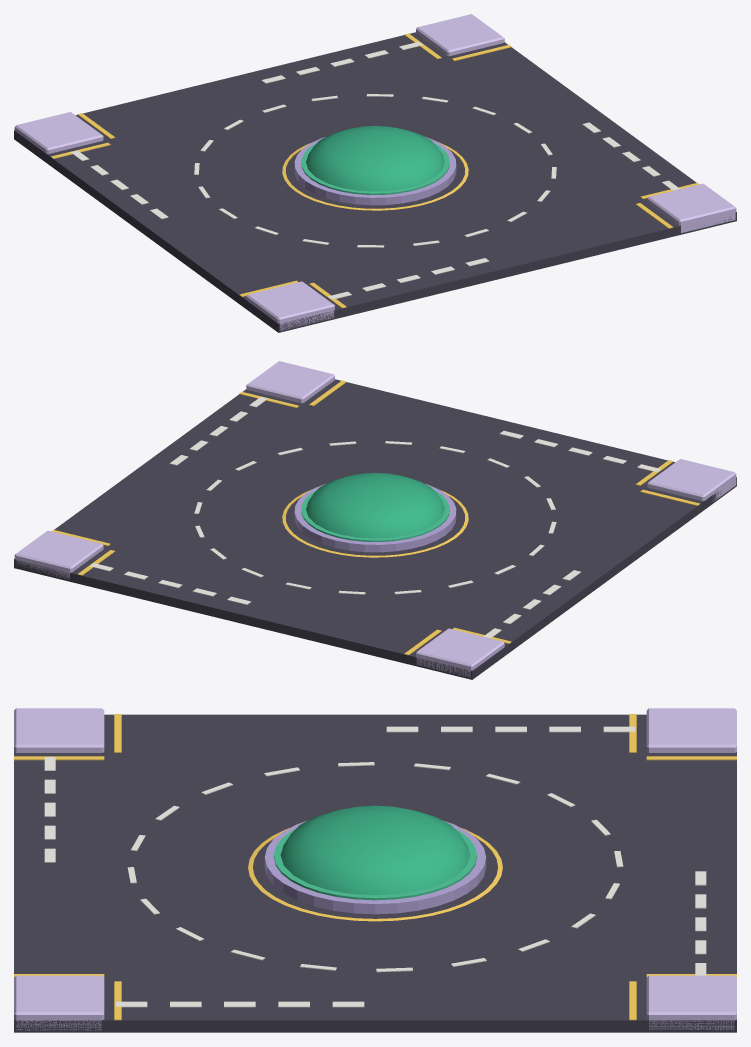
File: road_roundabout.glb
3 views of the same model, one above another, from view 1: azimuth 30°, elevation 25°; view 2: azimuth 150°, elevation 25°; view 3: azimuth 270°, elevation 25° (orthographic). The views are drawn at different scales.
Parts seen in each view (by area): view 1: road_roundabout; view 2: road_roundabout; view 3: road_roundabout.
Boxes of the visible parts, <box> form: road_roundabout: <box>14,14,736,332</box>; road_roundabout: <box>14,361,736,679</box>; road_roundabout: <box>14,708,736,1032</box>.
Bounding box in the file's own units: 16 × 1.33 × 16.
